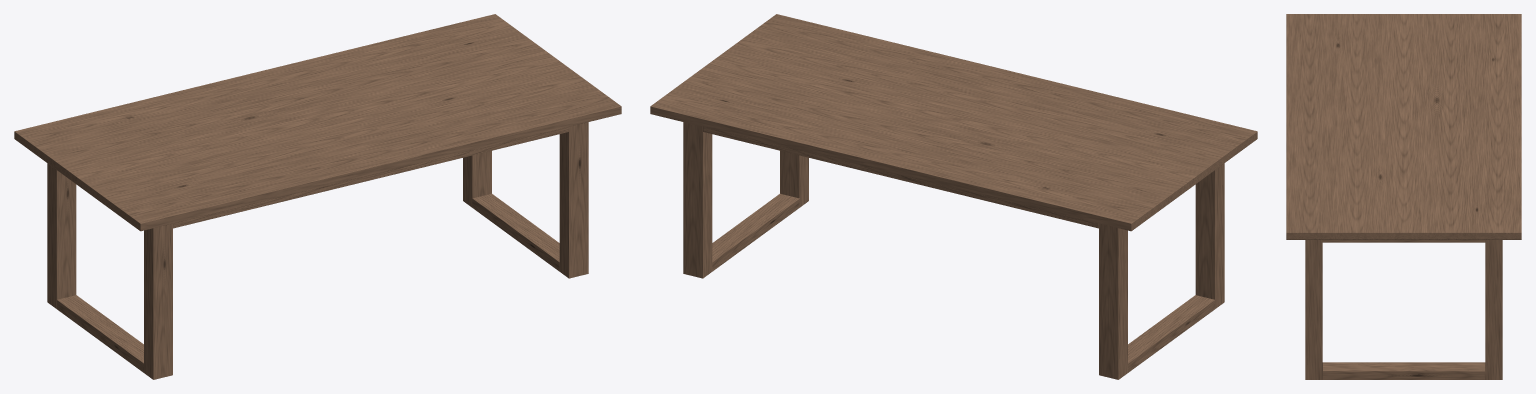
Rendered from wood_table.glb.
The picture shows the model from 3 angles, left to right: view 1: azimuth 30°, elevation 25°; view 2: azimuth 150°, elevation 25°; view 3: azimuth 270°, elevation 25°; orthographic projection. The views are drawn at different scales.
Visible parts, largest first — view 1: RDT_Continuous_rectangular_top_GLB, RDT_Right_Front_upright_GLB, RDT_Left_Front_upright_GLB, RDT_Left_Rear_upright_GLB, RDT_Right_bottom_frame_rail_GLB, RDT_Left_bottom_frame_rail_GLB, RDT_Front_upper_long_apron_GLB, RDT_Right_Rear_upright_GLB; view 2: RDT_Continuous_rectangular_top_GLB, RDT_Right_Rear_upright_GLB, RDT_Left_Rear_upright_GLB, RDT_Left_Front_upright_GLB, RDT_Right_bottom_frame_rail_GLB, RDT_Left_bottom_frame_rail_GLB, RDT_Rear_upper_long_apron_GLB, RDT_Right_Front_upright_GLB; view 3: RDT_Continuous_rectangular_top_GLB, RDT_Right_bottom_frame_rail_GLB, RDT_Right_Front_upright_GLB, RDT_Right_Rear_upright_GLB, RDT_Right_top_frame_rail_GLB.
Boxes of the visible parts, <box> form: RDT_Continuous_rectangular_top_GLB: <box>14,14,621,231</box>; RDT_Right_Front_upright_GLB: <box>559,122,588,278</box>; RDT_Left_Front_upright_GLB: <box>144,223,172,379</box>; RDT_Left_Rear_upright_GLB: <box>47,163,76,308</box>; RDT_Right_bottom_frame_rail_GLB: <box>472,193,559,271</box>; RDT_Left_bottom_frame_rail_GLB: <box>57,295,143,372</box>; RDT_Front_upper_long_apron_GLB: <box>173,127,568,228</box>; RDT_Right_Rear_upright_GLB: <box>463,151,491,207</box>; RDT_Continuous_rectangular_top_GLB: <box>650,14,1257,231</box>; RDT_Right_Rear_upright_GLB: <box>683,122,712,278</box>; RDT_Left_Rear_upright_GLB: <box>1099,223,1127,379</box>; RDT_Left_Front_upright_GLB: <box>1195,163,1224,308</box>; RDT_Right_bottom_frame_rail_GLB: <box>712,193,799,271</box>; RDT_Left_bottom_frame_rail_GLB: <box>1128,295,1214,372</box>; RDT_Rear_upper_long_apron_GLB: <box>703,127,1098,228</box>; RDT_Right_Front_upright_GLB: <box>780,151,808,207</box>; RDT_Continuous_rectangular_top_GLB: <box>1286,14,1521,239</box>; RDT_Right_bottom_frame_rail_GLB: <box>1322,362,1485,379</box>; RDT_Right_Front_upright_GLB: <box>1305,240,1322,379</box>; RDT_Right_Rear_upright_GLB: <box>1485,240,1502,379</box>; RDT_Right_top_frame_rail_GLB: <box>1322,240,1485,242</box>.
Size of the model in its own units: 2.2 by 0.74 by 1.
11 materials, 11 textured.
